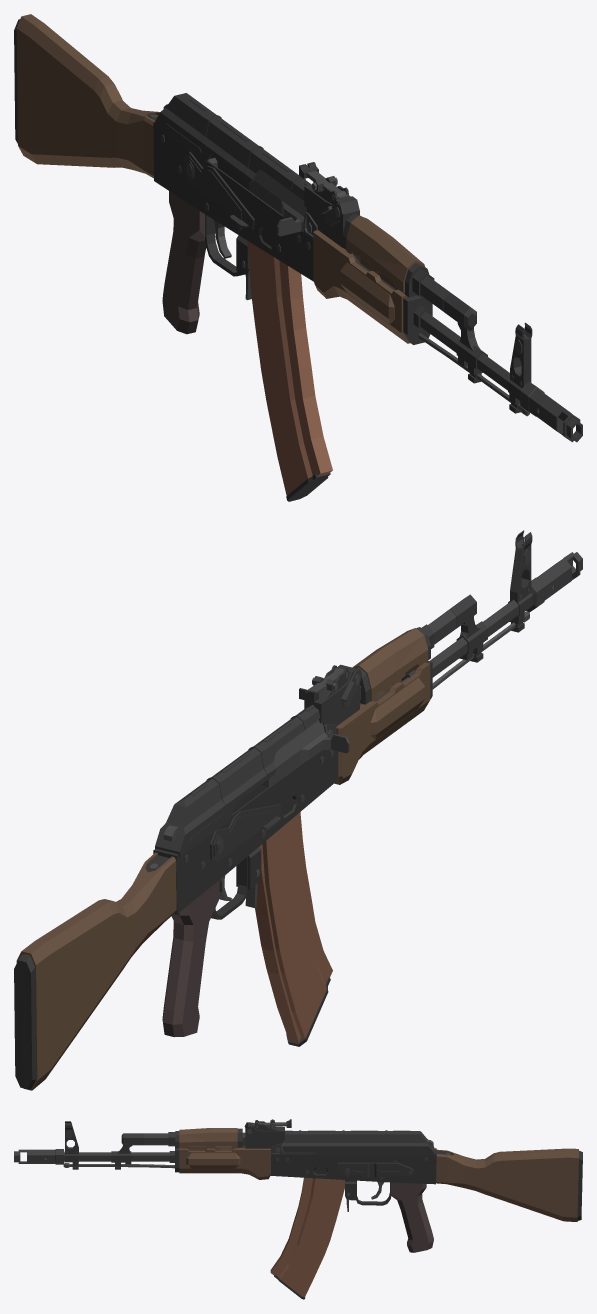
3 views of the same model, one above another, from view 1: azimuth 30°, elevation 25°; view 2: azimuth 150°, elevation 25°; view 3: azimuth 270°, elevation 25° (orthographic). The views are drawn at different scales.
Visible parts, largest first — view 1: body_00, mag_02, safety_06, bolt_01; view 2: body_00, mag_02, bolt_01, safety_06; view 3: body_00, mag_02.
Boxes of the visible parts, x1,y1,x2,y2 form: body_00: (14, 14, 582, 442); mag_02: (247, 241, 332, 501); safety_06: (184, 152, 254, 229); bolt_01: (249, 170, 306, 236); body_00: (14, 530, 582, 1090); mag_02: (255, 812, 332, 1046); bolt_01: (261, 719, 349, 786); safety_06: (210, 804, 280, 860); body_00: (14, 1119, 582, 1252); mag_02: (270, 1177, 344, 1299).
Size of the model in its own units: 0.0625 by 0.3828 by 1.11.
